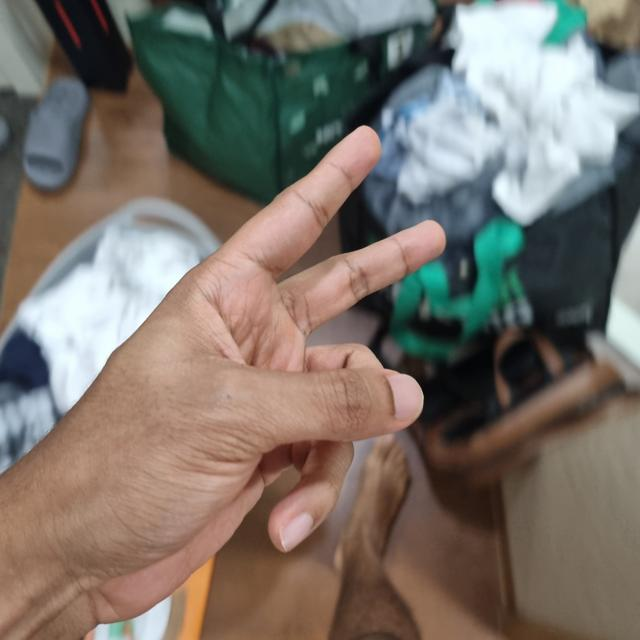Scissors: (12, 130, 443, 618)
